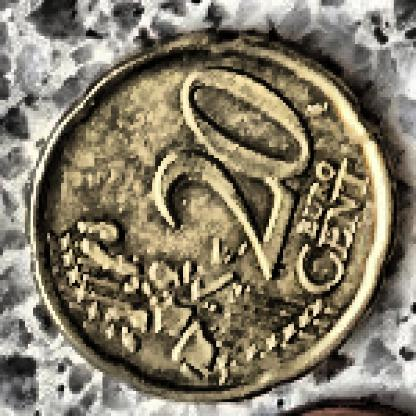coin: (29, 34, 392, 402)
